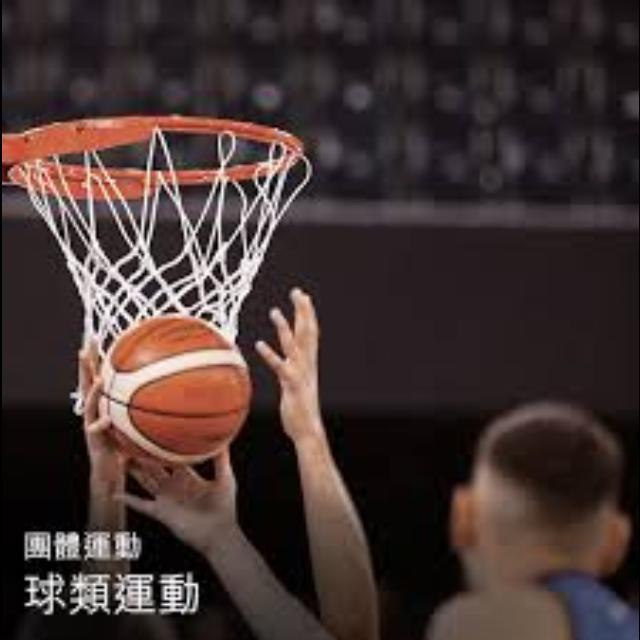basketball: (97, 318, 253, 462)
rim: (20, 114, 302, 314)
